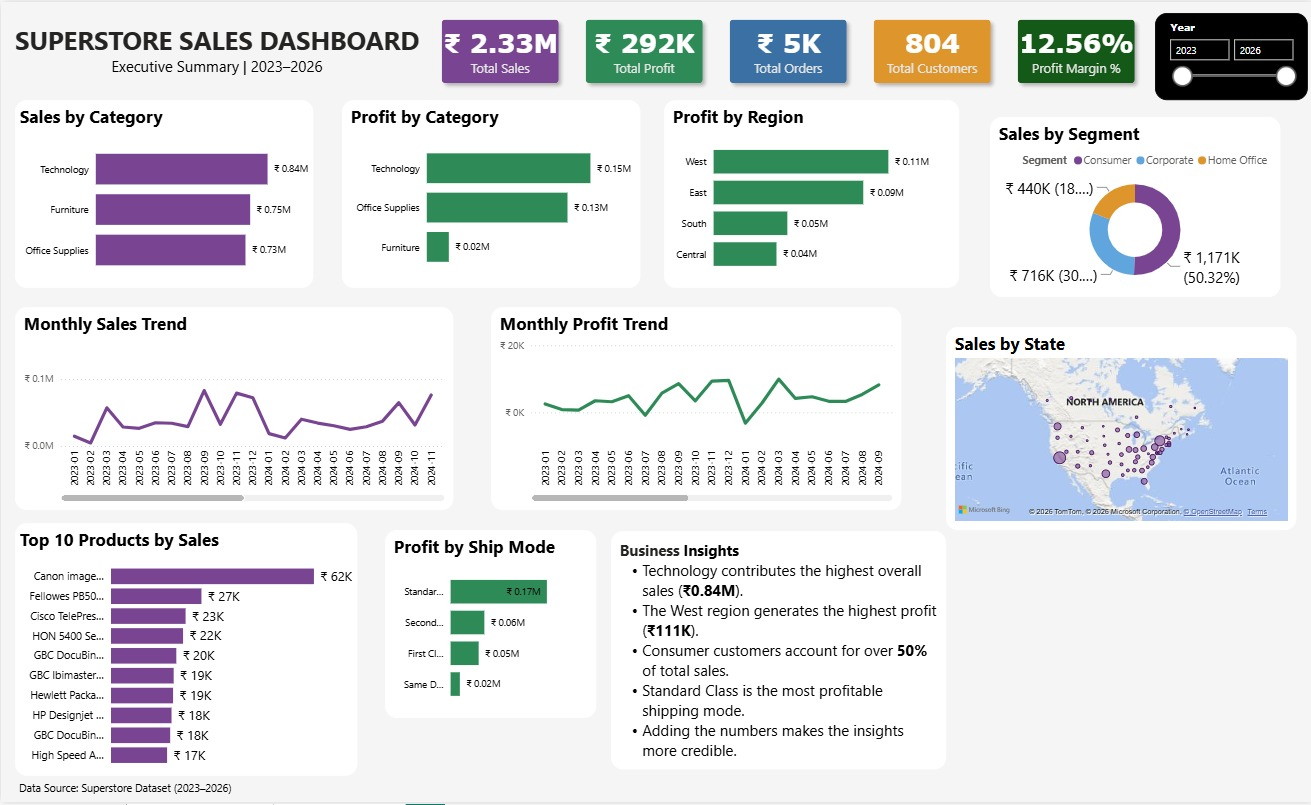

The page's visual inventory and layout, read from the dashboard file:
{"tool":"powerbi","page":{"name":"Executive Summary","canvas":[1640,1000],"ordinal":0},"visuals":[{"type":"textbox","box":[0,13.8,540,96.2],"z":0},{"type":"cardVisual","title":"Total Sales","fields":{"Data":["Superstore_Cleaned.Total Sales","Superstore_Cleaned.Total Profit","Superstore_Cleaned.Total Orders","Superstore_Cleaned.Total Customers","Superstore_Cleaned.Profit Margin %"]},"box":[530,1.2,912.5,121.2],"z":1000},{"type":"clusteredBarChart","title":"Sales by Category","fields":{"Category":["Superstore_Cleaned.Category"],"Y":["Superstore_Cleaned.Total Sales"]},"box":[17.5,122.5,372.5,235],"z":2000},{"type":"clusteredBarChart","title":" Profit by Region","fields":{"Category":["Superstore_Cleaned.Region"],"Y":["Superstore_Cleaned.Total Profit"]},"box":[828.8,122.5,368.8,235],"z":3000},{"type":"slicer","fields":{"Values":["Superstore_Cleaned.Order Date.Variation.Date Hierarchy.Year"]},"box":[1442.5,13.8,191.2,108.8],"z":4000},{"type":"lineChart","title":"Monthly Sales Trend","fields":{"Y":["Superstore_Cleaned.Total Sales"],"Category":["Superstore_Cleaned.Year Month"]},"box":[17.5,381.2,547.5,253.8],"z":5000},{"type":"clusteredBarChart","title":"Profit by Category","fields":{"Category":["Superstore_Cleaned.Category"],"Y":["Superstore_Cleaned.Total Profit"]},"box":[426.2,122.5,372.5,235],"z":6000},{"type":"lineChart","title":"Monthly Profit Trend","fields":{"Category":["Superstore_Cleaned.Year Month"],"Y":["Superstore_Cleaned.Total Profit"]},"box":[612.5,381.2,512.5,253.8],"z":7000},{"type":"map","title":"Sales by State","fields":{"Category":["Superstore_Cleaned.State/Province"],"Size":["Superstore_Cleaned.Total Sales"]},"box":[1181.2,406.2,437.5,253.8],"z":8000},{"type":"clusteredBarChart","title":"Profit by Ship Mode","fields":{"Category":["Superstore_Cleaned.Ship Mode"],"Y":["Superstore_Cleaned.Total Profit"]},"box":[480,660,263.8,235],"z":9000},{"type":"clusteredBarChart","title":"Top 10 Products by Sales","fields":{"Category":["Superstore_Cleaned.Product Name"],"Y":["Superstore_Cleaned.Total Sales"]},"box":[17.5,651.2,427.5,316.2],"z":10000},{"type":"donutChart","title":"Sales by Segment","fields":{"Category":["Superstore_Cleaned.Segment"],"Y":["Superstore_Cleaned.Total Sales"]},"box":[1236.2,143.8,362.5,225],"z":11000},{"type":"textbox","box":[762.5,661.2,418.8,297.5],"z":12000},{"type":"textbox","box":[17.5,968.8,283.8,31.2],"z":13000}]}

Visuals, with their boxes in screenshot pixels (x1, y1, x2, y2), scaled from the page's 1640x1000 canvas onto the 1311x805 screenshot:
textbox: 0, 11, 432, 89
"Total Sales" cardVisual: 424, 1, 1153, 99
"Sales by Category" clusteredBarChart: 14, 99, 312, 288
" Profit by Region" clusteredBarChart: 663, 99, 957, 288
slicer - Superstore_Cleaned.Order Date.Variation.Date Hierarchy.Year: 1153, 11, 1306, 99
"Monthly Sales Trend" lineChart: 14, 307, 452, 511
"Profit by Category" clusteredBarChart: 341, 99, 638, 288
"Monthly Profit Trend" lineChart: 490, 307, 899, 511
"Sales by State" map: 944, 327, 1294, 531
"Profit by Ship Mode" clusteredBarChart: 384, 531, 595, 720
"Top 10 Products by Sales" clusteredBarChart: 14, 524, 356, 779
"Sales by Segment" donutChart: 988, 116, 1278, 297
textbox: 610, 532, 944, 772
textbox: 14, 780, 241, 804
